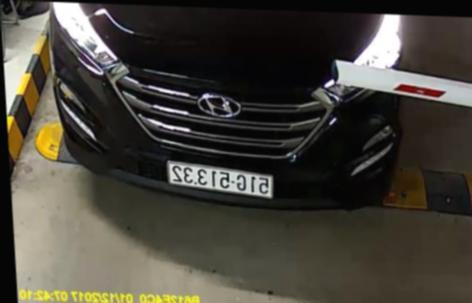License_Plate: (166, 161, 277, 197)
